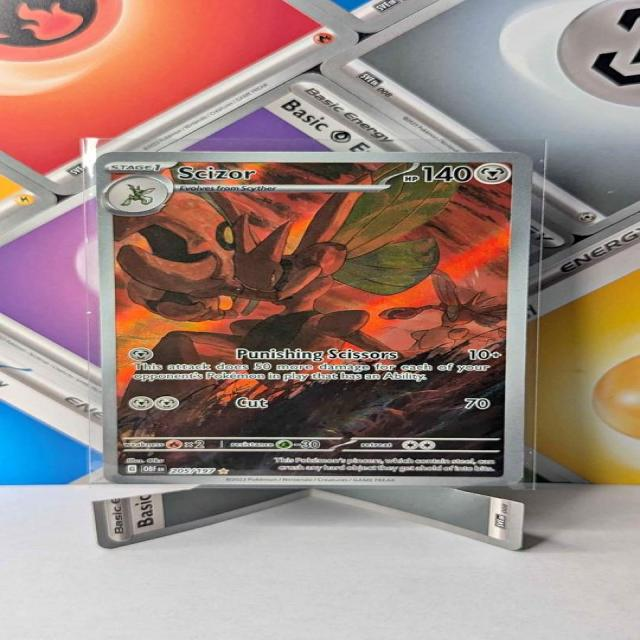card: (90, 149, 536, 487)
